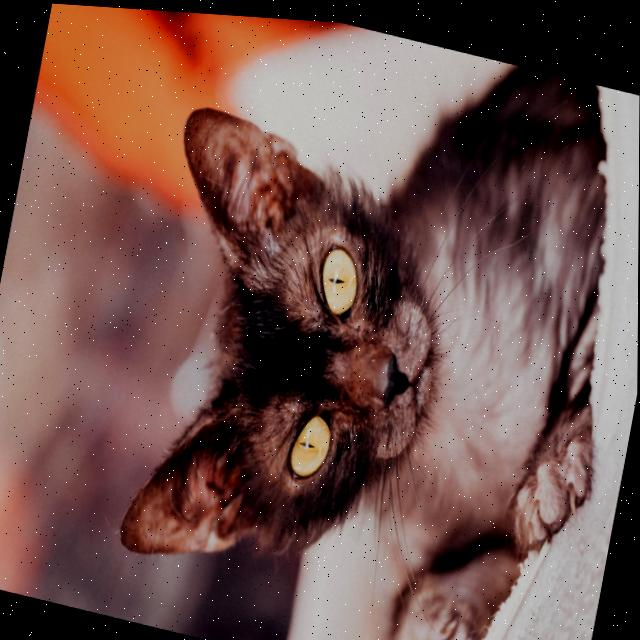Lykoi: (88, 5, 640, 640)
